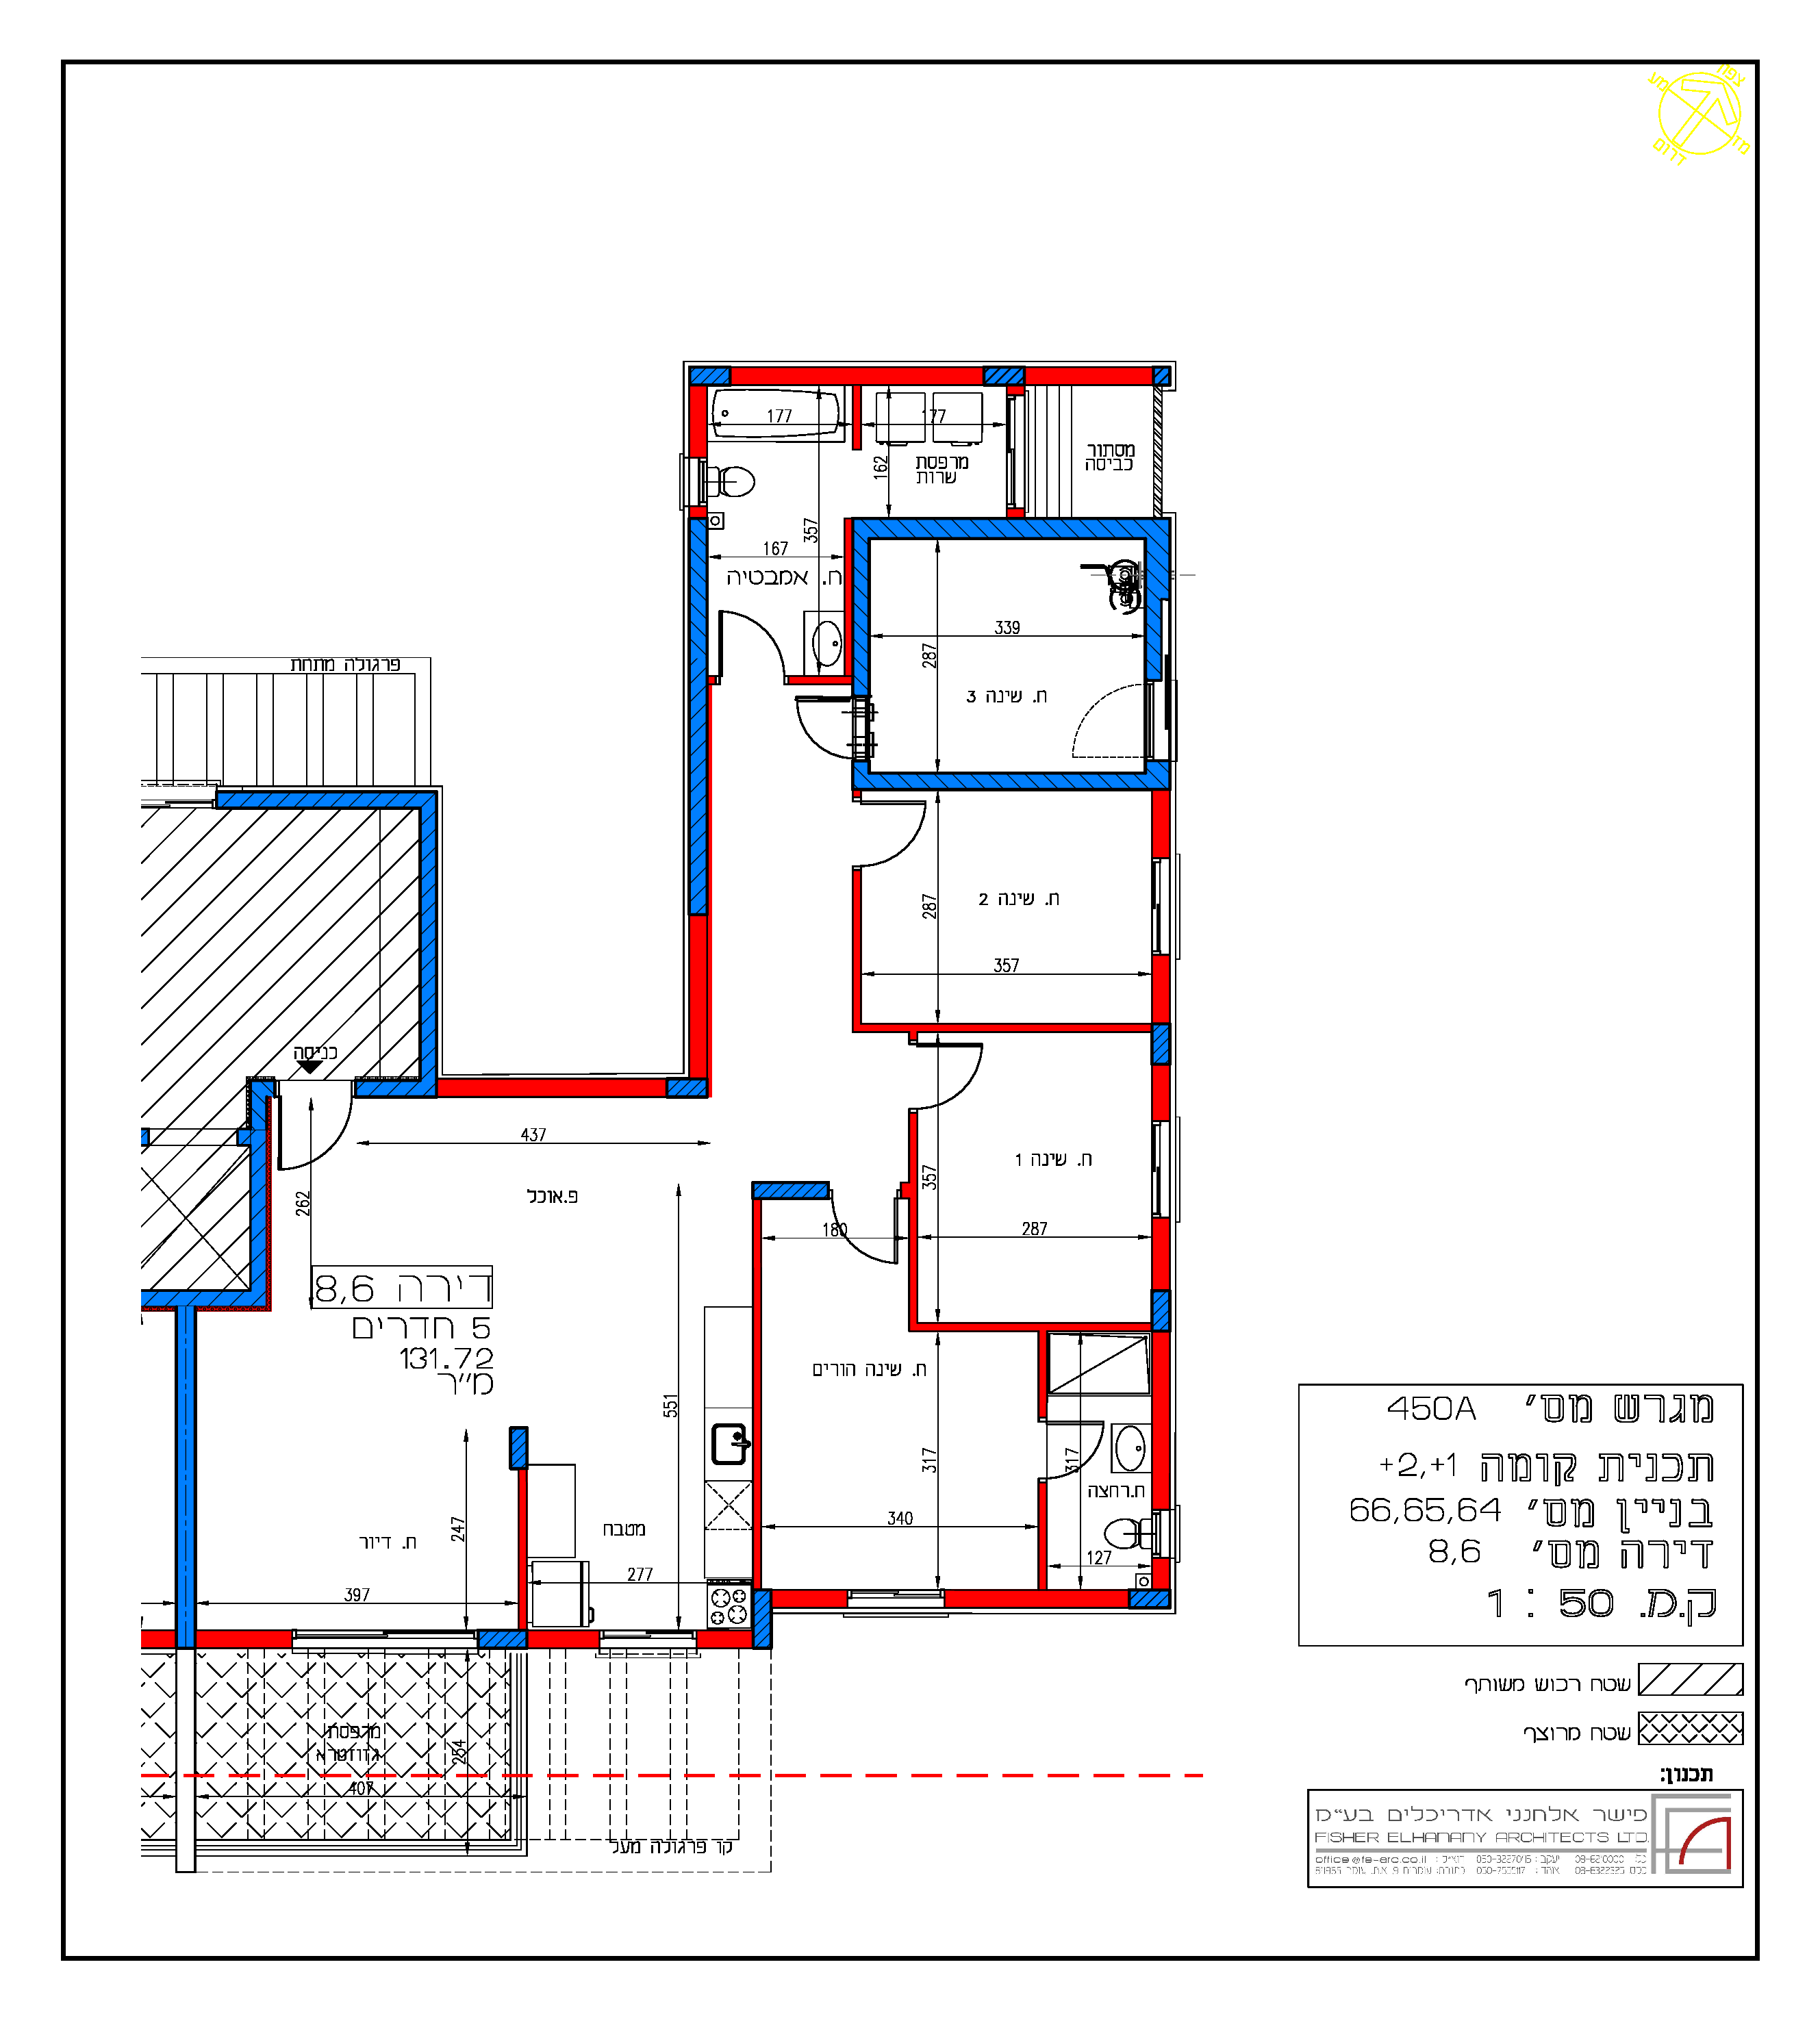door: (274, 1110, 355, 1189), (822, 1210, 906, 1275), (924, 1038, 987, 1120), (713, 604, 787, 671), (868, 795, 931, 869), (785, 690, 841, 769), (1054, 1417, 1109, 1480)
wall: (690, 520, 706, 911), (857, 520, 1166, 537), (859, 773, 1159, 788), (422, 794, 436, 1092), (740, 369, 977, 383), (950, 1591, 1126, 1608), (220, 794, 434, 806), (1154, 1333, 1166, 1508), (863, 1024, 1145, 1031), (754, 1203, 759, 1563), (908, 1118, 917, 1320), (912, 1324, 1149, 1331), (1031, 369, 1149, 383), (1149, 520, 1159, 672), (197, 1631, 283, 1647), (854, 874, 861, 1031), (752, 1594, 769, 1649), (1151, 1025, 1172, 1064), (531, 1635, 596, 1645)
window: (292, 1617, 478, 1659), (849, 1584, 945, 1626), (1144, 857, 1184, 953), (1145, 1120, 1181, 1219), (597, 1626, 699, 1656), (1149, 1510, 1181, 1557)
